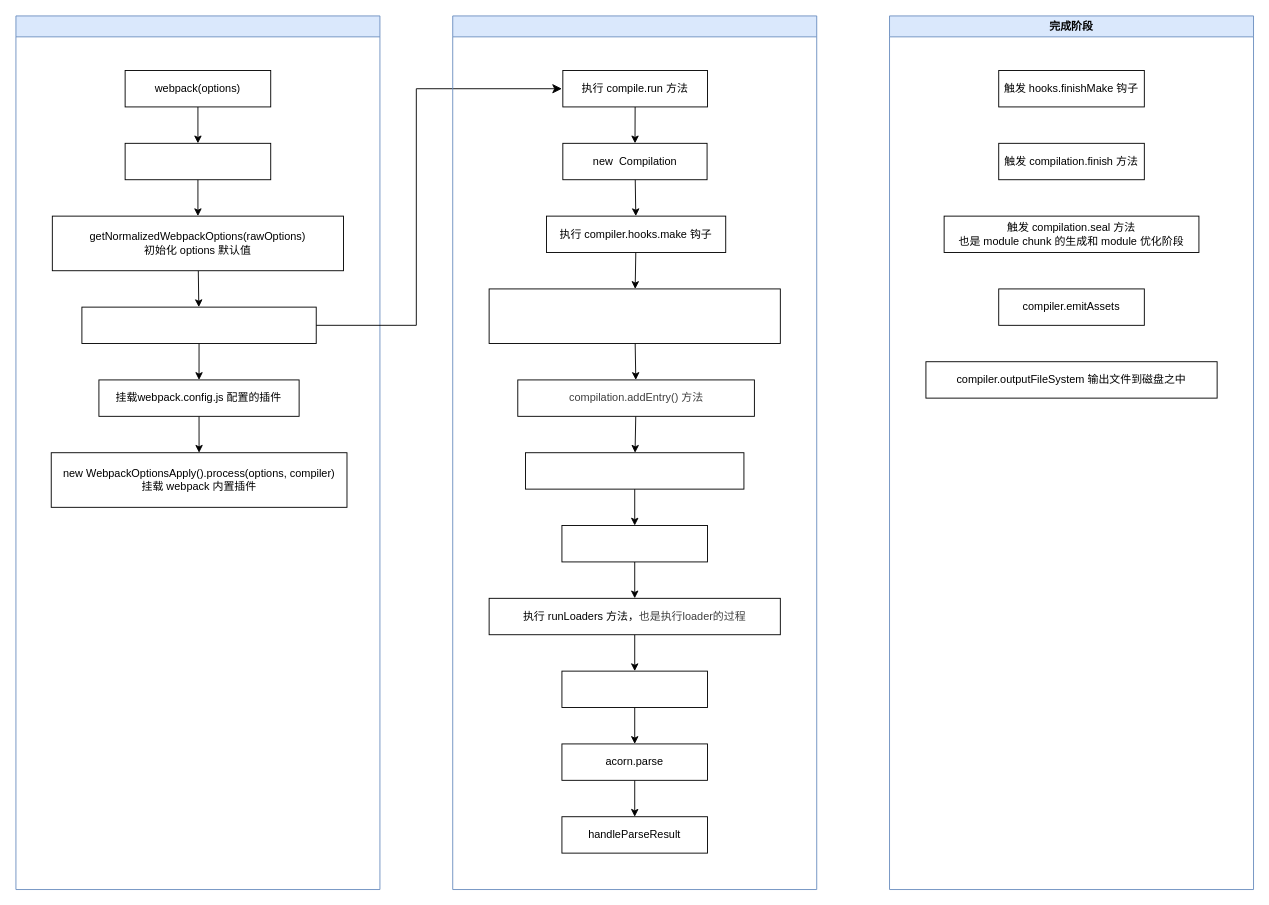
This 1269x905 diagram has some shape labels left out. Each missing label, with the box of its shape:
addModuleTree 方法创建模块树: (525, 452, 744, 489)
createCompiler方法: (124, 142, 271, 180)
new Compiler(options.context, options): (81, 306, 316, 344)
parser.parse: (561, 670, 708, 708)
会触发 EnryPlugin compiler.hooks.make.tapAsync， 同时触发 compilation.addEntry 方法: (488, 288, 780, 344)
初始化阶段: (15, 15, 380, 890)
执行 module.build: (561, 525, 708, 562)
构建阶段: (452, 15, 817, 890)
